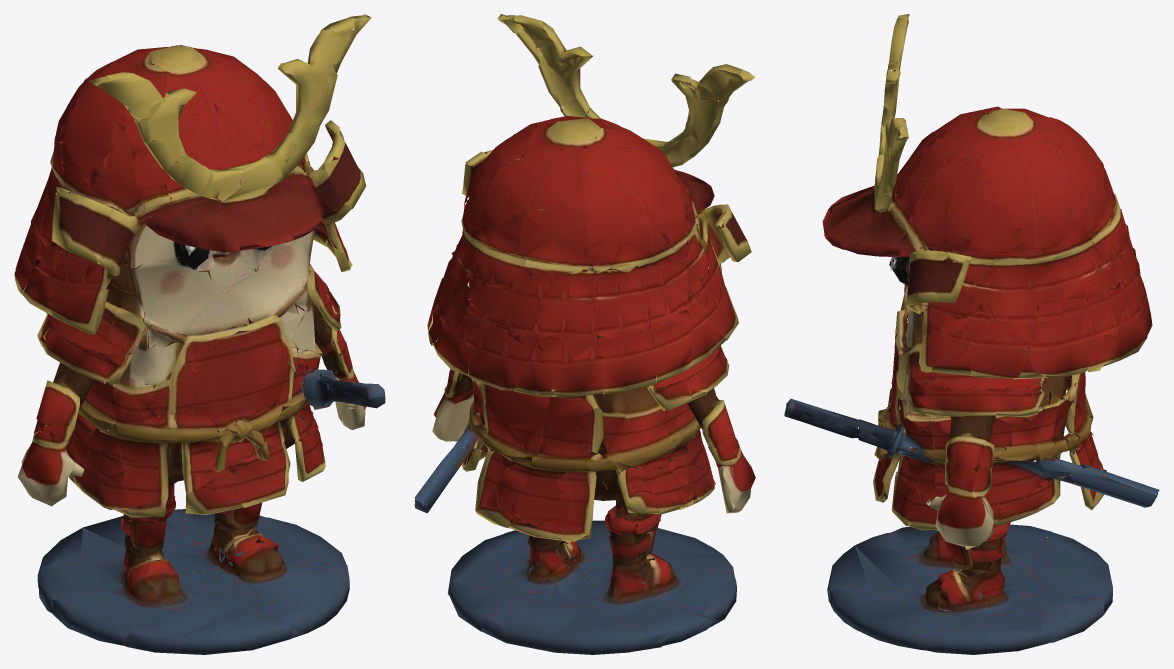
Rendered from crimson-samurai.glb.
The picture shows the model from 3 angles, left to right: view 1: azimuth 30°, elevation 25°; view 2: azimuth 150°, elevation 25°; view 3: azimuth 270°, elevation 25°; orthographic projection. The views are drawn at different scales.
Visible parts, largest first — view 1: Mesh_0; view 2: Mesh_0; view 3: Mesh_0.
Part boxes in pixels (box(x1,y1,x2,y2)): Mesh_0: box(14, 14, 385, 654); Mesh_0: box(414, 14, 755, 654); Mesh_0: box(784, 14, 1159, 654).
Size of the model in its own units: 1.17 by 1.9 by 1.24.
Materials: 1 (1 with a texture image).
